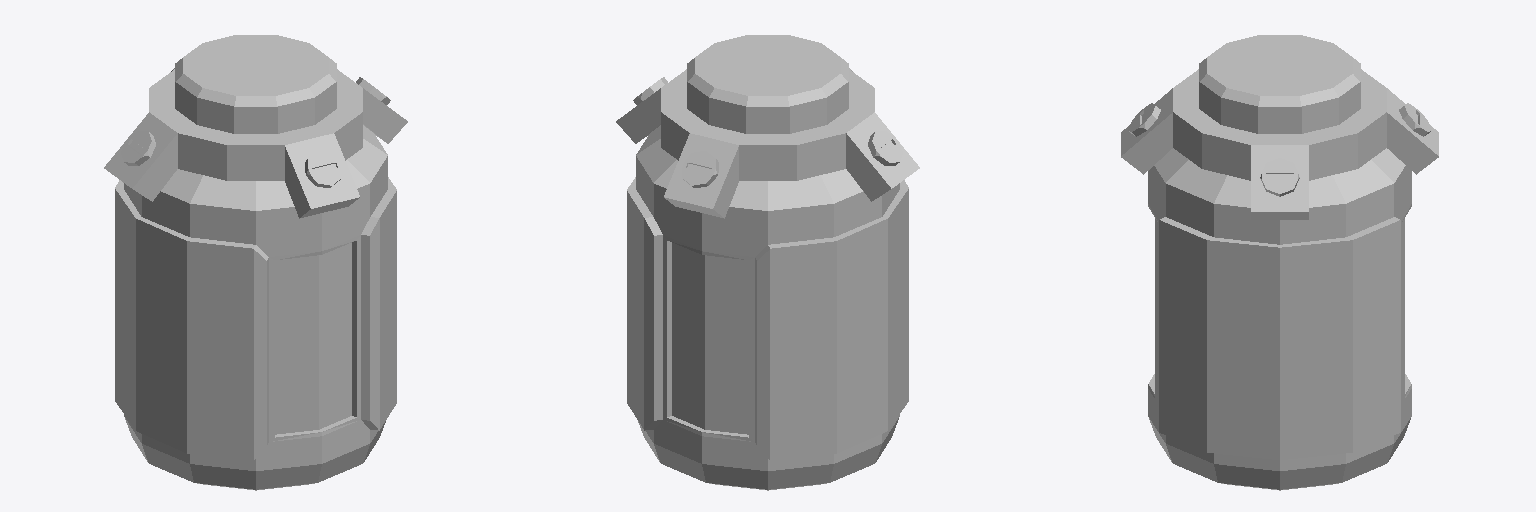
File: Pickup_Tank_Cylinder_008.obj
3 renders of one model, left to right at view 1: azimuth 30°, elevation 25°; view 2: azimuth 150°, elevation 25°; view 3: azimuth 270°, elevation 25°, orthographic.
Parts seen in each view (by area): view 1: Pickup_Tank_Cylinder.008; view 2: Pickup_Tank_Cylinder.008; view 3: Pickup_Tank_Cylinder.008.
Boxes of the visible parts, box(x1,y1,x2,y2) form: Pickup_Tank_Cylinder.008: box(104, 35, 407, 490); Pickup_Tank_Cylinder.008: box(616, 35, 919, 490); Pickup_Tank_Cylinder.008: box(1121, 35, 1438, 490).
Size of the model in its own units: 0.2007 by 0.2647 by 0.2007.